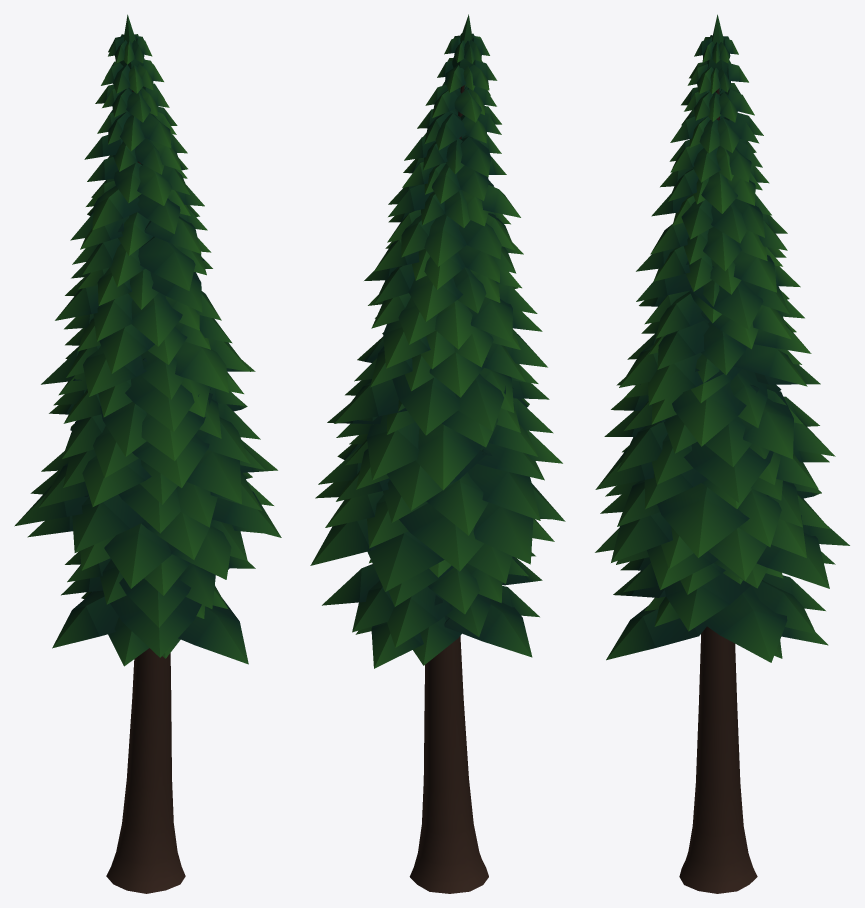
Rendered from sitka-spruce-b.glb.
3 views of the same model, side by side, from view 1: azimuth 30°, elevation 25°; view 2: azimuth 150°, elevation 25°; view 3: azimuth 270°, elevation 25° (orthographic).
Parts seen in each view (by area): view 1: sitka-spruce-b.Leaves, sitka-spruce-b.Bark; view 2: sitka-spruce-b.Leaves, sitka-spruce-b.Bark; view 3: sitka-spruce-b.Leaves, sitka-spruce-b.Bark.
Part boxes in pixels (<box>): sitka-spruce-b.Leaves: <box>14,14,281,666</box>; sitka-spruce-b.Bark: <box>106,90,185,893</box>; sitka-spruce-b.Leaves: <box>310,14,565,668</box>; sitka-spruce-b.Bark: <box>409,85,488,893</box>; sitka-spruce-b.Leaves: <box>595,14,849,662</box>; sitka-spruce-b.Bark: <box>679,88,757,893</box>.
Size of the model in its own units: 4.42 by 16 by 4.35.
